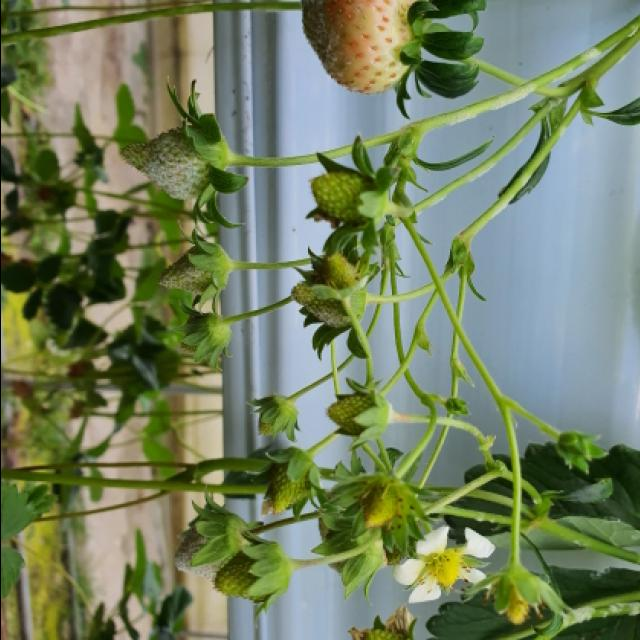Powdery Mildew Fruit: (121, 124, 219, 203), (171, 511, 239, 576), (157, 242, 225, 298)
